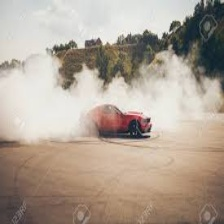smoke: (1, 63, 218, 141)
